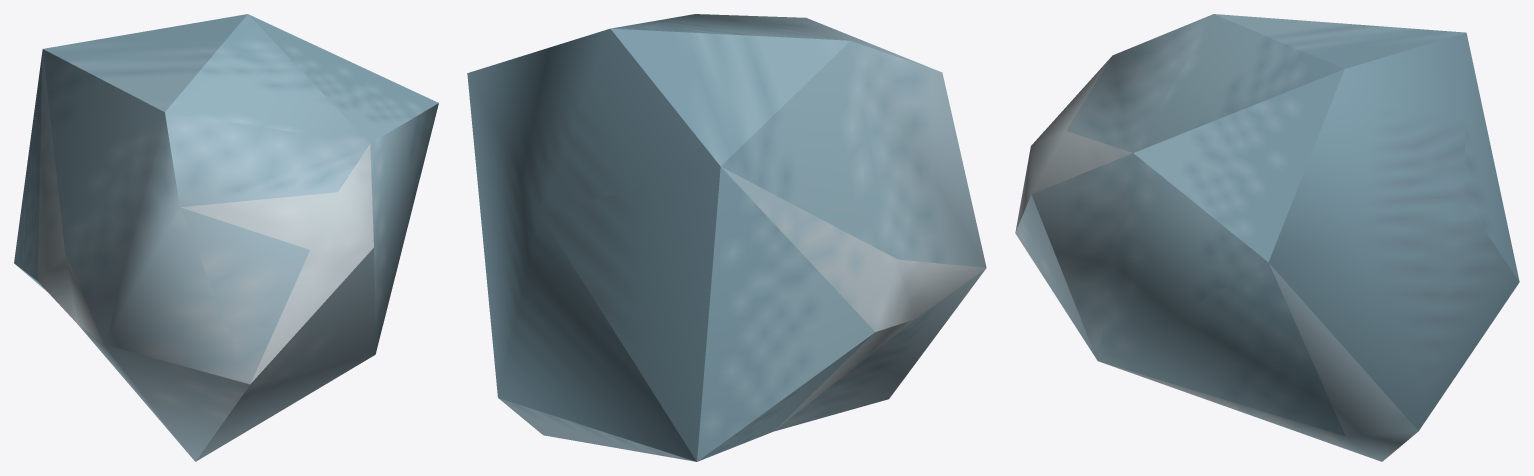
The model's file is Silver_Nugget_Small.gltf.
The picture shows the model from 3 angles, left to right: view 1: azimuth 30°, elevation 25°; view 2: azimuth 150°, elevation 25°; view 3: azimuth 270°, elevation 25°; orthographic projection. The views are drawn at different scales.
Visible parts, largest first — view 1: Silver_Nugget_Small; view 2: Silver_Nugget_Small; view 3: Silver_Nugget_Small.
Boxes of the visible parts, left/top/right/bottom form: Silver_Nugget_Small: left=14, top=14, right=438, bottom=461; Silver_Nugget_Small: left=467, top=14, right=986, bottom=461; Silver_Nugget_Small: left=1015, top=14, right=1519, bottom=461.
Size of the model in its own units: 0.1411 by 0.1204 by 0.1461.
Materials: 1 (1 with a texture image).
